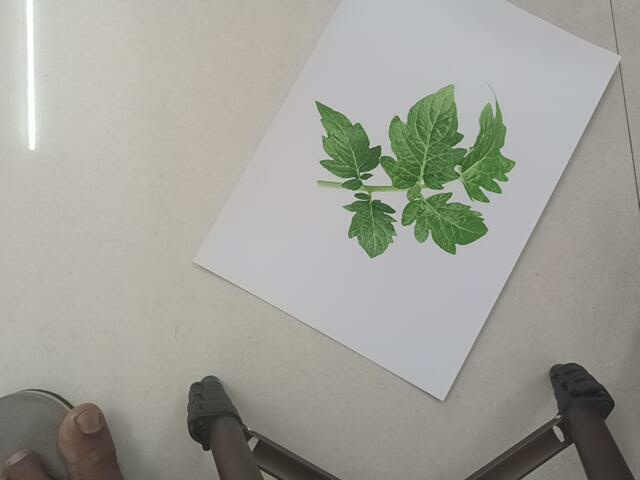Tomamto_Leaf_Healthy: (305, 50, 513, 269)
